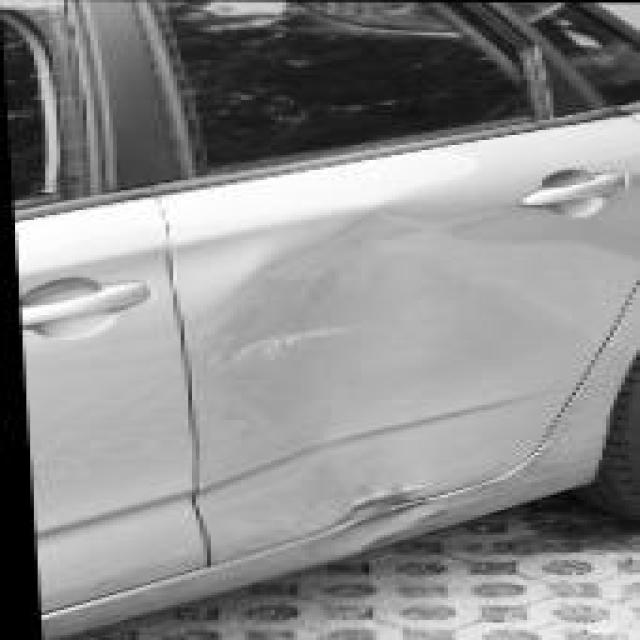Door: (181, 175, 632, 529)
